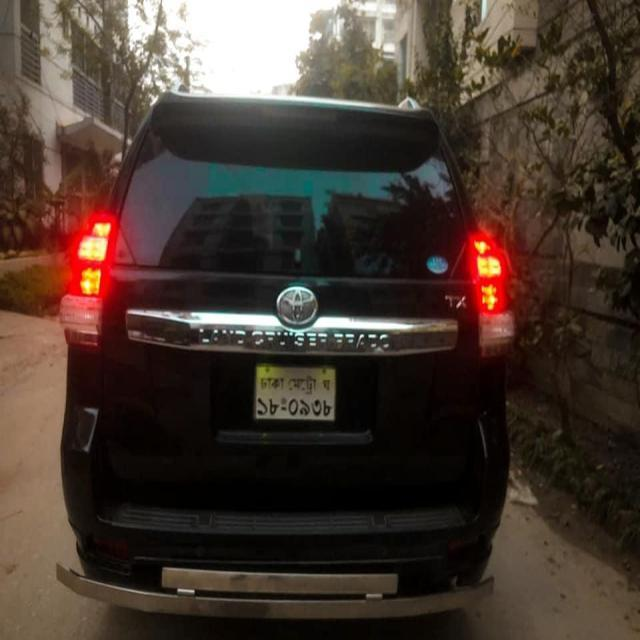numberplate: (251, 362, 338, 423)
